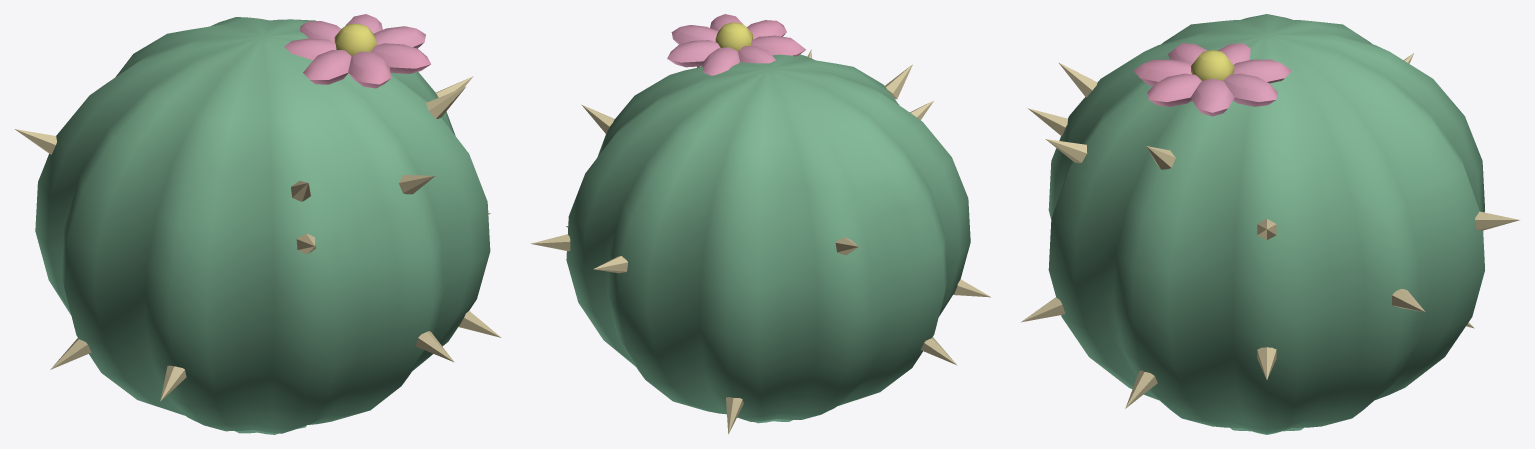
Rendered from cen_tarhut_cacto_bola_2.glb.
3 renders of one model, left to right at view 1: azimuth 30°, elevation 25°; view 2: azimuth 150°, elevation 25°; view 3: azimuth 270°, elevation 25°, orthographic. The views are drawn at different scales.
Visible parts, largest first — view 1: cacto_bola; view 2: cacto_bola; view 3: cacto_bola.
Part boxes in pixels (left/top/right/bottom): cacto_bola: left=14, top=14, right=501, bottom=434; cacto_bola: left=530, top=14, right=990, bottom=434; cacto_bola: left=1021, top=14, right=1519, bottom=434.
Size of the model in its own units: 1.38 by 1.16 by 1.35.
